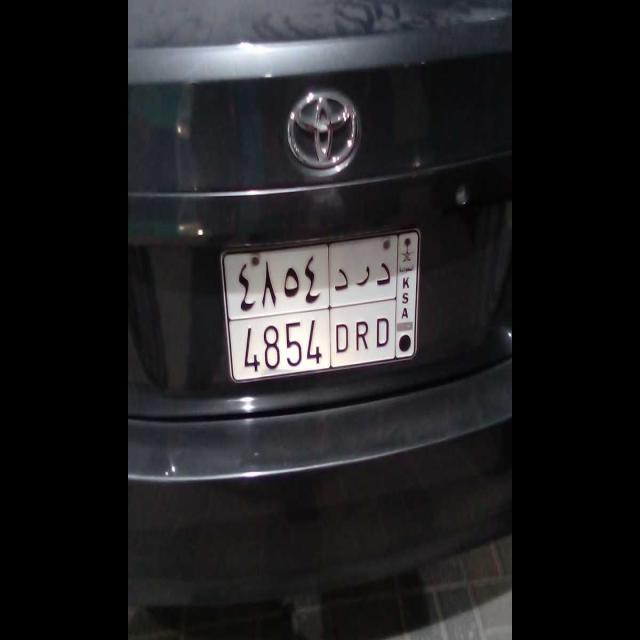license_plate: (225, 312, 397, 382)
